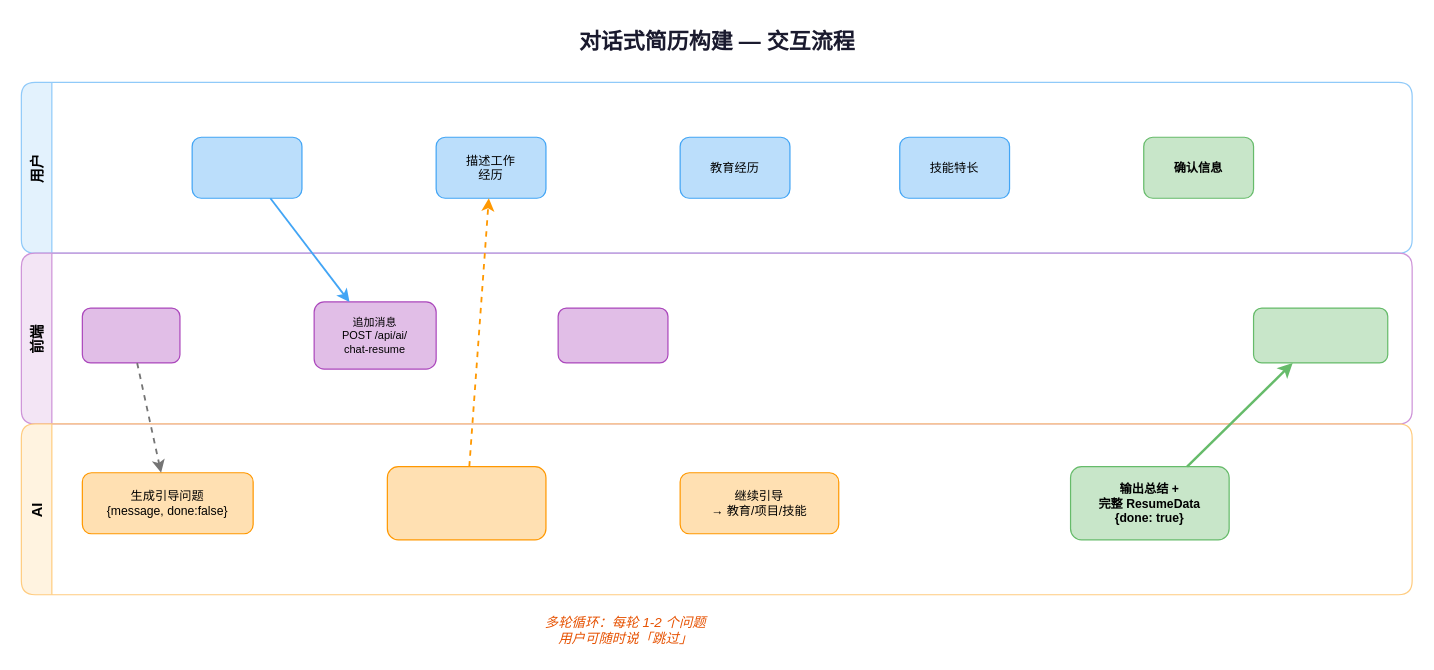
The diagram is 1434 pixels wide and 670 high, and some of its shapes have lost their labels. Here are the shapes that lost their labels. From the top down, the centre of each, then its label:
point 246,167: 输入姓名 联系方式
point 130,335: 显示欢迎 气泡
point 612,335: 追加消息 继续请求
point 1320,335: done=true → 跳转编辑器
point 466,502: 追问量化数据 "带了几人？" "提升了多少？"
